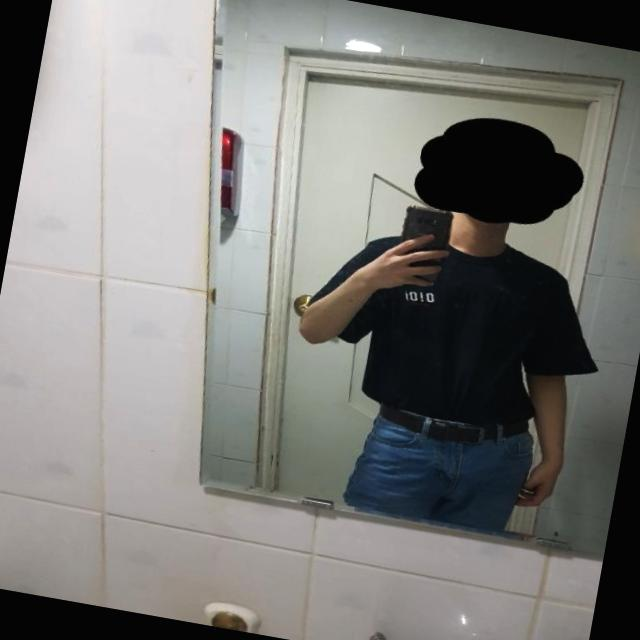denimpants: (340, 395, 534, 535)
shortsleeve: (286, 210, 612, 440)
